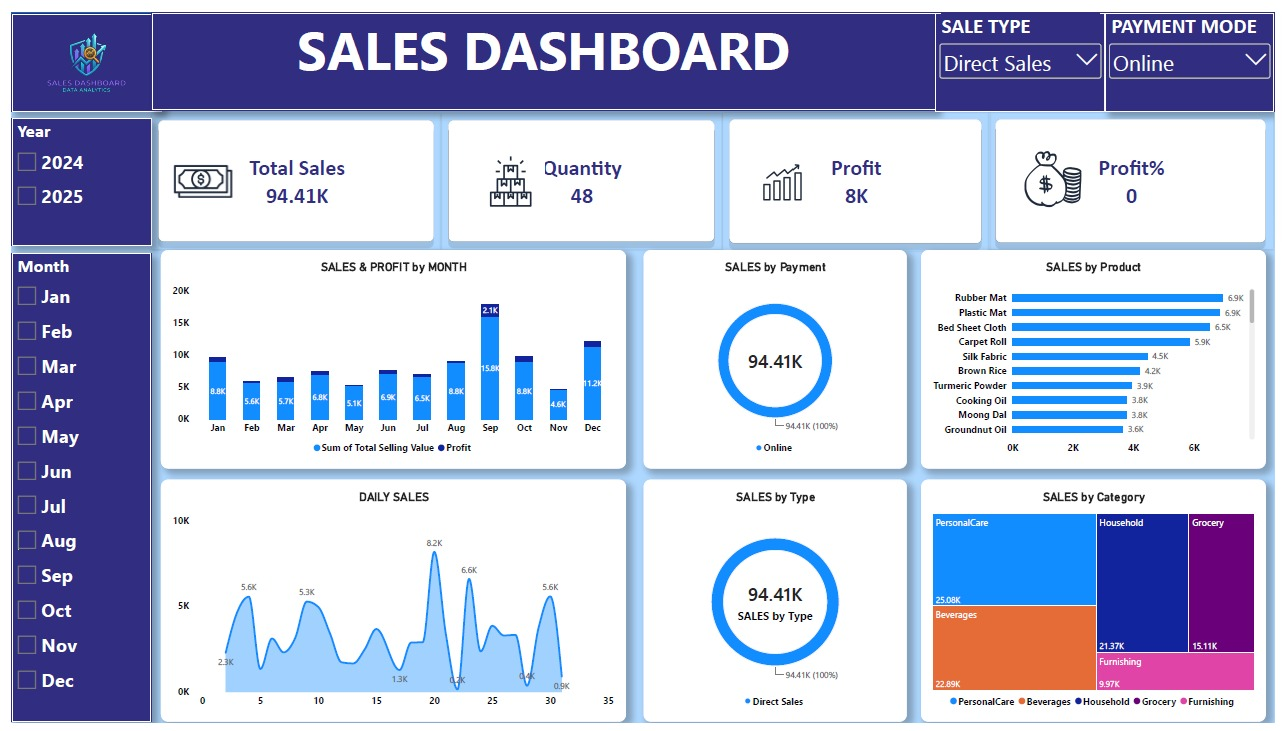

What the dashboard file says about the page in this screenshot:
{"tool":"powerbi","page":{"name":"Page 1","canvas":[1920,1080],"ordinal":0},"visuals":[{"type":"shape","box":[0,0,213.3,146.7],"z":0},{"type":"image","box":[0,2.4,228.3,147.5],"z":1000},{"type":"textbox","box":[213.3,0,1191.7,147.8],"z":2000},{"type":"slicer","fields":{"Values":["InputData.Year"]},"box":[0,161,213.3,193.3],"z":3000},{"type":"slicer","fields":{"Values":["InputData.Month Name"]},"box":[0,365.9,212.2,712.2],"z":4000},{"type":"slicer","fields":{"Values":["InputData.SALE TYPE"]},"box":[1405,0,257.8,150],"z":5000},{"type":"slicer","fields":{"Values":["InputData.PAYMENT MODE"]},"box":[1662.8,0,257.2,150],"z":6000},{"type":"cardVisual","fields":{"Data":["Sum(InputData.Total Selling Value)"]},"box":[213.3,153.3,440,206.7],"z":7000},{"type":"cardVisual","fields":{"Data":["Sum(InputData.QUANTITY)"]},"box":[653.3,153.3,426.7,206.7],"z":8000},{"type":"cardVisual","fields":{"Data":["InputData.Profit"]},"box":[1081,151.7,405.6,210],"z":9000},{"type":"cardVisual","fields":{"Data":["InputData.Profit%"]},"box":[1486.2,151.7,432.8,208.6],"z":10000},{"type":"image","box":[712,134,98,246],"z":11000},{"type":"image","box":[1100,176,144,164],"z":12000},{"type":"image","box":[1520,122,128,262],"z":13000},{"type":"image","box":[228,128,126,256],"z":14000},{"type":"columnChart","title":"SALES & PROFIT by MONTH","fields":{"Category":["InputData.Month Name"],"Y":["Sum(InputData.Total Selling Value)","InputData.Profit"]},"box":[226.8,361,707.3,331.7],"z":15000},{"type":"areaChart","title":"DAILY SALES","fields":{"Category":["InputData.Day"],"Y":["Sum(InputData.Total Selling Value)"]},"box":[226.8,709.8,707.3,368.3],"z":16000},{"type":"clusteredBarChart","title":"SALES by Product","fields":{"Category":["InputData.MasterData.PRODUCT"],"Y":["Sum(InputData.Total Selling Value)"]},"box":[1382.9,361,524.4,331.7],"z":16001},{"type":"treemap","title":"SALES by Category","fields":{"Group":["InputData.MasterData.CATEGORY"],"Values":["Sum(InputData.Total Selling Value)"]},"box":[1382.9,709.8,524,368],"z":16002},{"type":"donutChart","title":"SALES by Type","fields":{"Category":["InputData.SALE TYPE"],"Y":["Sum(InputData.Total Selling Value)"]},"box":[961,709.8,400,368.3],"z":16003},{"type":"donutChart","title":"SALES by Payment","fields":{"Category":["InputData.PAYMENT MODE"],"Y":["Sum(InputData.Total Selling Value)"]},"box":[961,361,400,331.7],"z":16004}]}

Visuals, with their boxes in screenshot pixels (x1, y1, x2, y2), scaled from the page's 1920x1080 canvas onto the 1282x731 screenshot:
shape: 0, 0, 142, 99
image: 0, 2, 152, 101
textbox: 142, 0, 938, 100
slicer - InputData.Year: 0, 109, 142, 240
slicer - InputData.Month Name: 0, 248, 142, 730
slicer - InputData.SALE TYPE: 938, 0, 1110, 102
slicer - InputData.PAYMENT MODE: 1110, 0, 1281, 102
cardVisual - Sum(InputData.Total Selling Value): 142, 104, 436, 244
cardVisual - Sum(InputData.QUANTITY): 436, 104, 721, 244
cardVisual - InputData.Profit: 722, 103, 993, 245
cardVisual - InputData.Profit%: 992, 103, 1281, 244
image: 475, 91, 541, 257
image: 734, 119, 831, 230
image: 1015, 83, 1100, 260
image: 152, 87, 236, 260
"SALES & PROFIT by MONTH" columnChart: 151, 244, 624, 469
"DAILY SALES" areaChart: 151, 480, 624, 730
"SALES by Product" clusteredBarChart: 923, 244, 1274, 469
"SALES by Category" treemap: 923, 480, 1273, 730
"SALES by Type" donutChart: 642, 480, 909, 730
"SALES by Payment" donutChart: 642, 244, 909, 469
